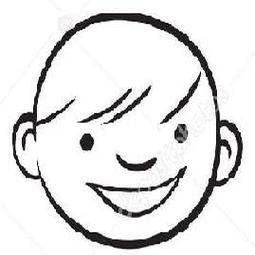ear: (211, 115, 250, 192), (2, 111, 40, 180)
nose: (114, 151, 164, 175)
open_mouth: (88, 175, 182, 220)
small_eye: (69, 131, 102, 156), (171, 122, 197, 149)
